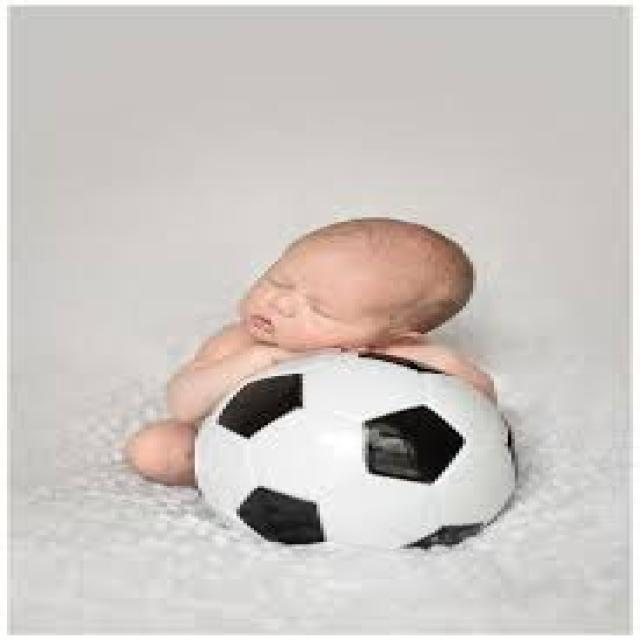ball: (198, 353, 520, 552)
